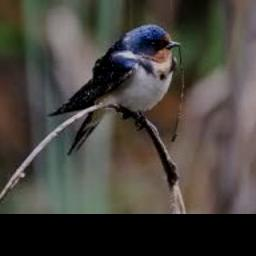Swallow: (48, 25, 181, 155)
